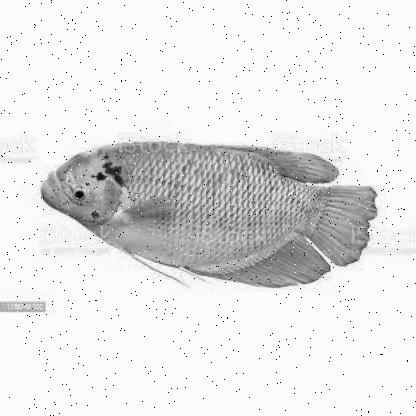gurame: (39, 138, 377, 288)
